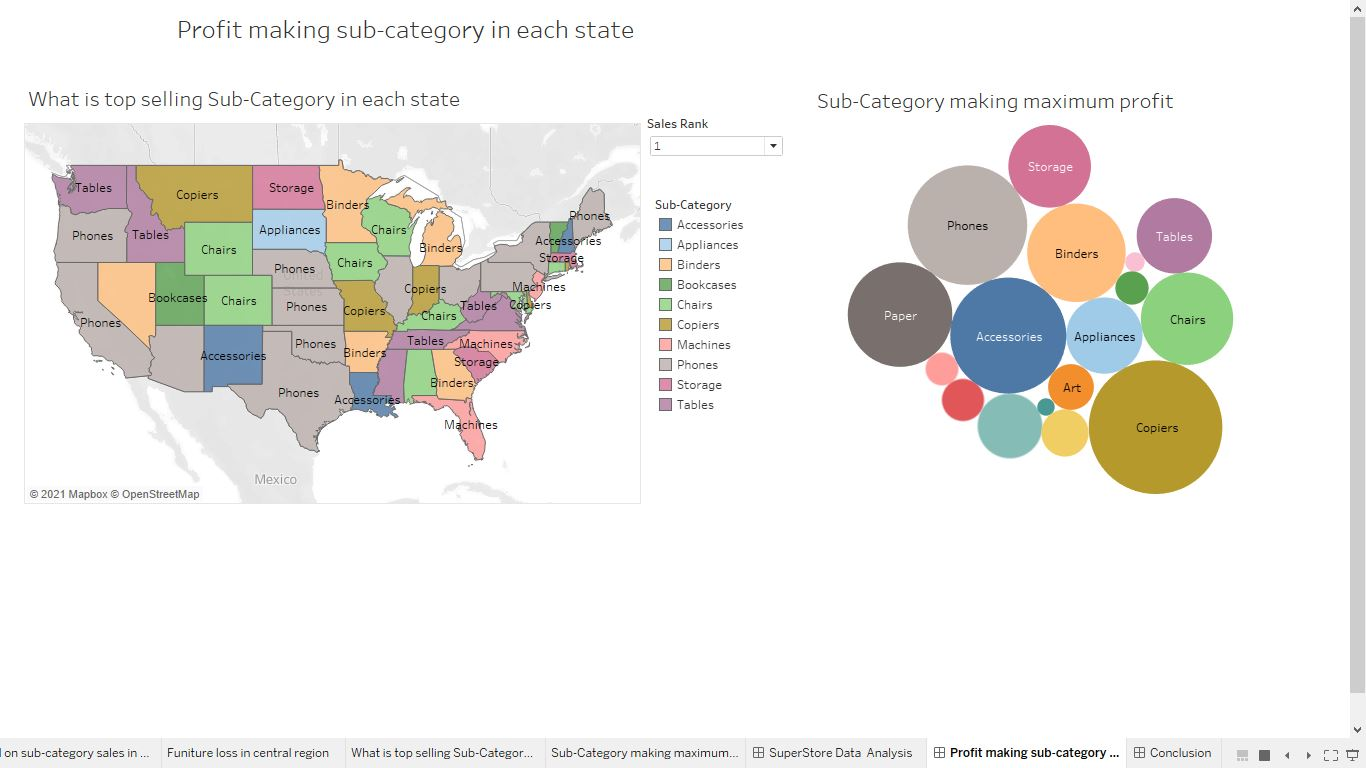

This screenshot's page, from the dashboard's own definition file:
{"tool":"tableau","page":{"name":"Profit making sub-category in each state","canvas":[1024,768],"ordinal":1},"visuals":[{"type":"title","box":[8,8,1008,42]},{"type":"filter","title":"What is top selling Sub-Category in each state","param":"[federated.1i0q9j906325021e6fd8u19ekc4g].[usr:Calculation_723672171185471488:ok:","box":[485,115,139,50]},{"type":"legend","title":"What is top selling Sub-Category in each state","param":"[federated.1i0q9j906325021e6fd8u19ekc4g].[none:Sub-Category:nk]","box":[493,196,144,234]}]}

Visuals, with their boxes on the page's 1024x768 design canvas (x1, y1, x2, y2). These are canvas units, not pixel positions in the 1366x768 screenshot, which may show the page scaled, cropped or inside an application window:
title: l=8, t=8, r=1016, b=50
"What is top selling Sub-Category in each state" filter: l=485, t=115, r=624, b=165
"What is top selling Sub-Category in each state" legend: l=493, t=196, r=637, b=430
